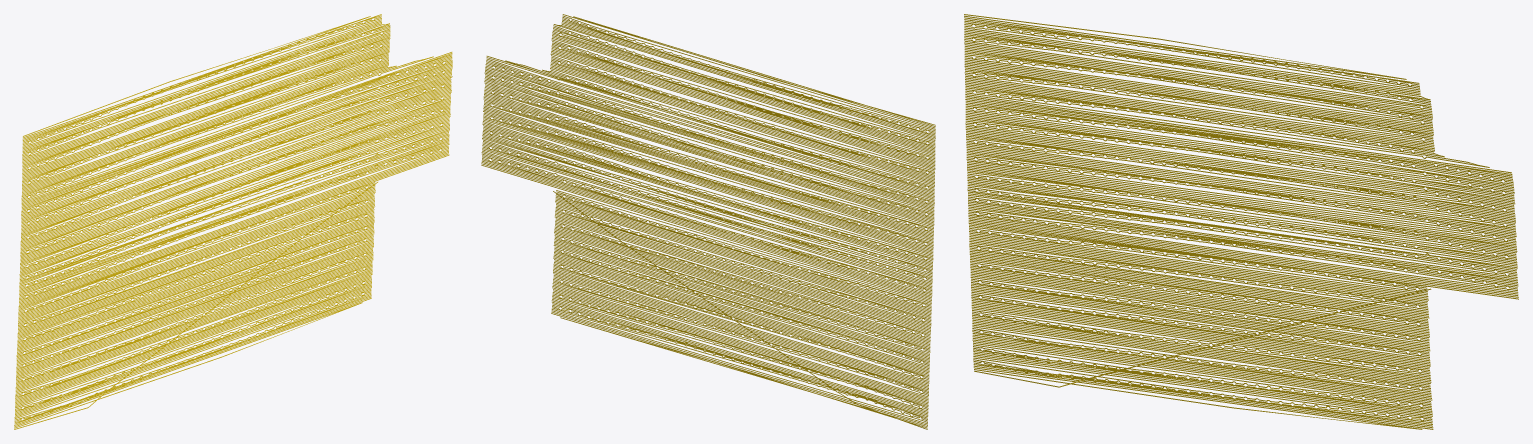
Rendered from work_route.obj.
3 views of the same model, side by side, from view 1: azimuth 30°, elevation 25°; view 2: azimuth 150°, elevation 25°; view 3: azimuth 330°, elevation 25° (orthographic). The views are drawn at different scales.
Parts seen in each view (by area): view 1: work_route; view 2: work_route; view 3: work_route.
Part boxes in pixels (x1,y1,x2,y2): work_route: (14,14,452,429); work_route: (481,14,935,429); work_route: (964,14,1518,429).
Bounding box in the file's own units: 335 × 237 × 24.09.
